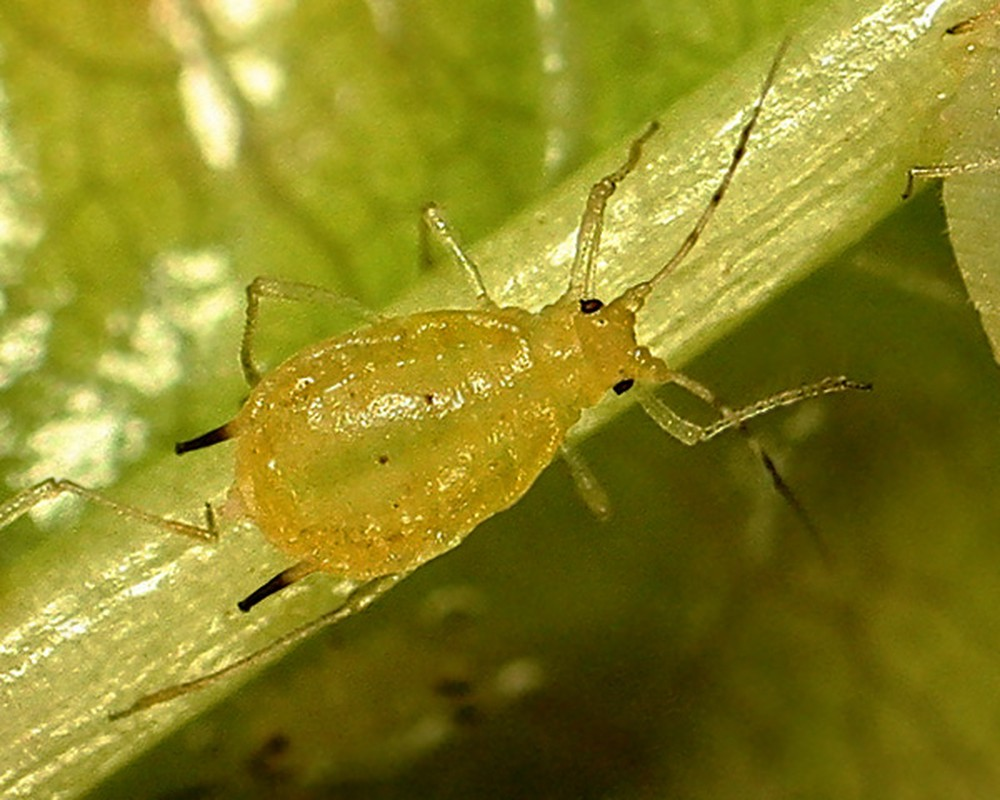Pulgon: (161, 131, 846, 649)
